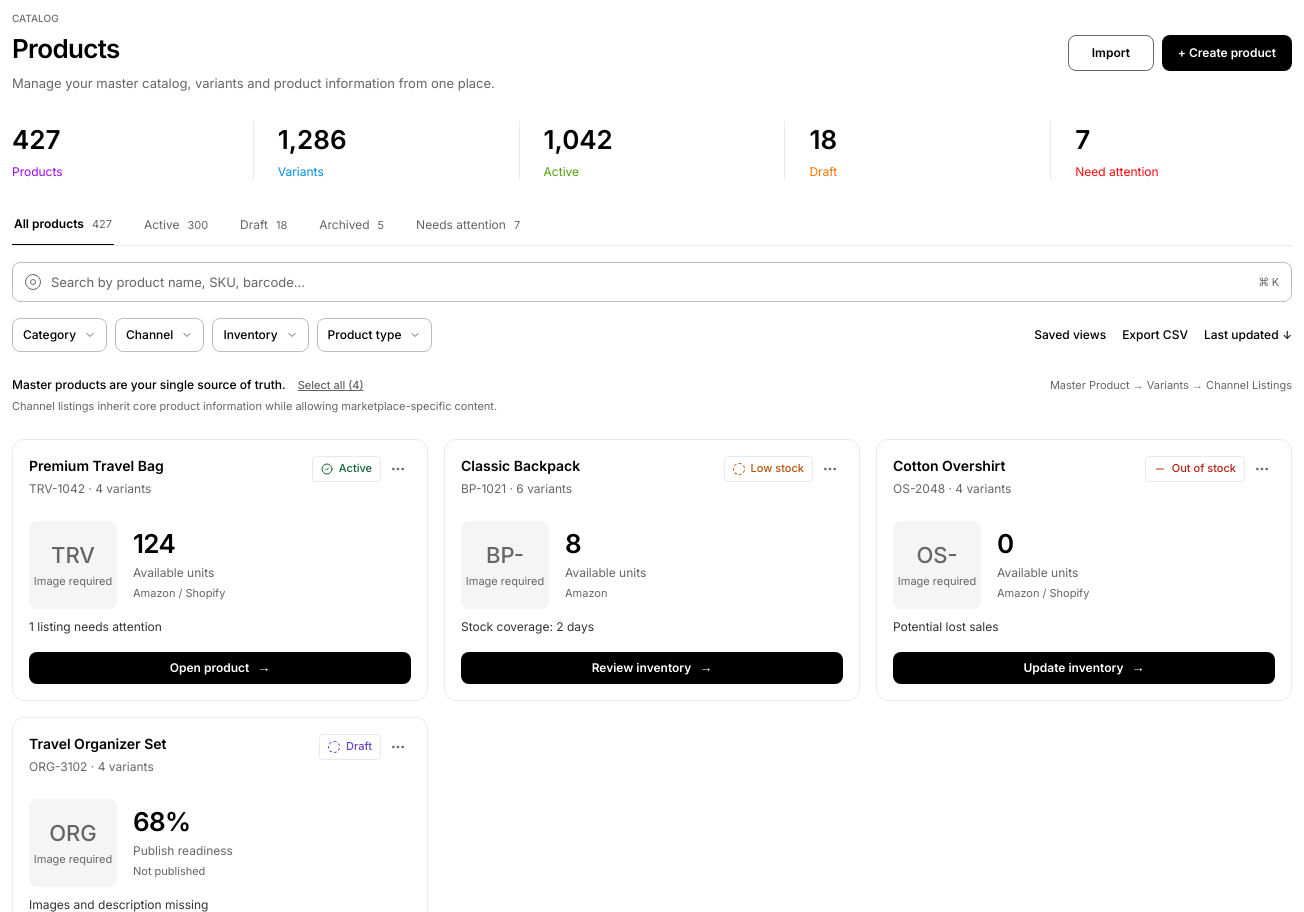
Test: ProductsPage list › searches after a pause and writes q to the URL
Expected: the text "Premium Travel Bag" is shown, [29, 456, 164, 476]
In the search field named "Search products": (650, 282) [51, 272, 1248, 292], type "TRV-10"
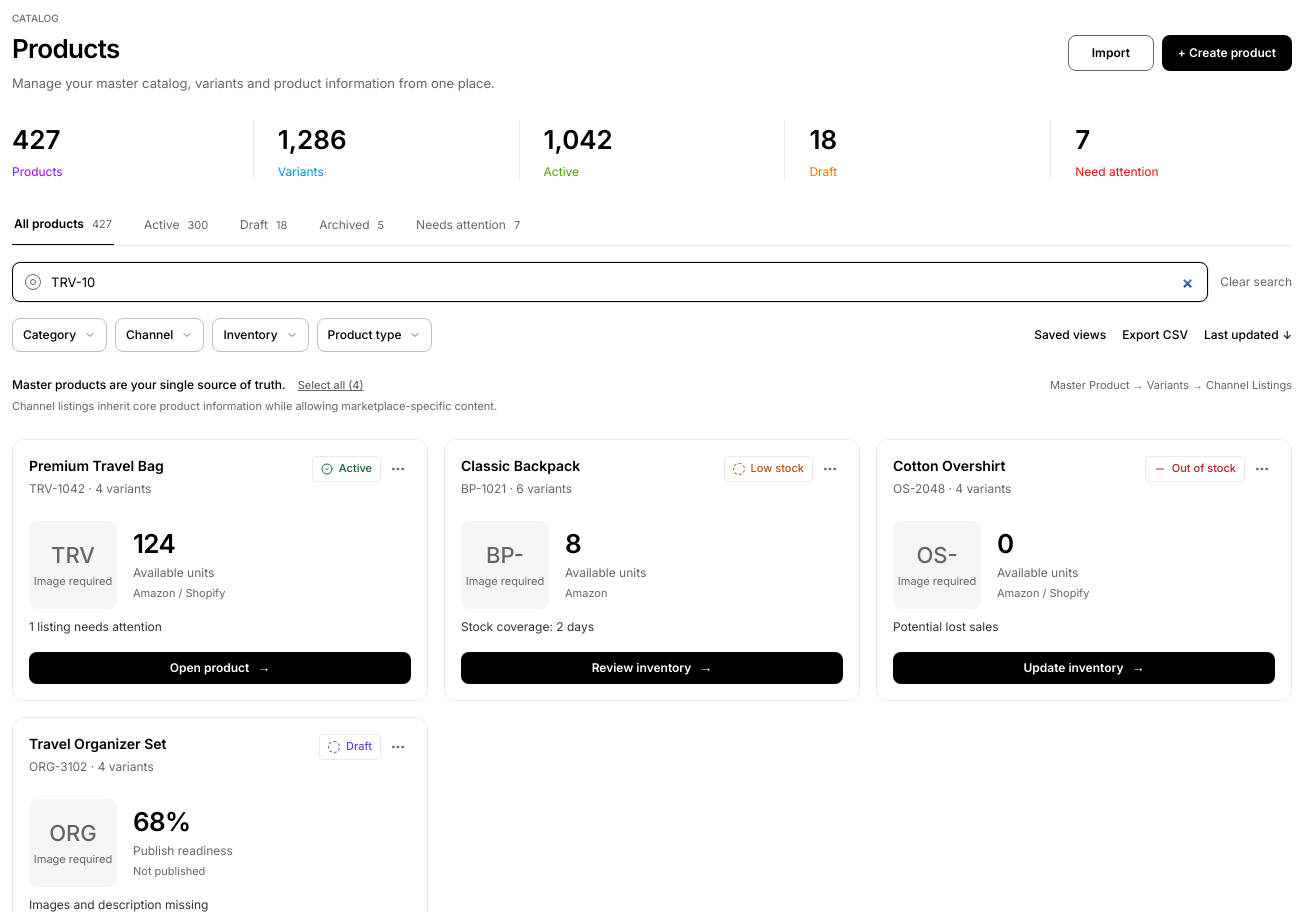
Click the button "Clear search": (1256, 282) [1220, 273, 1292, 291]
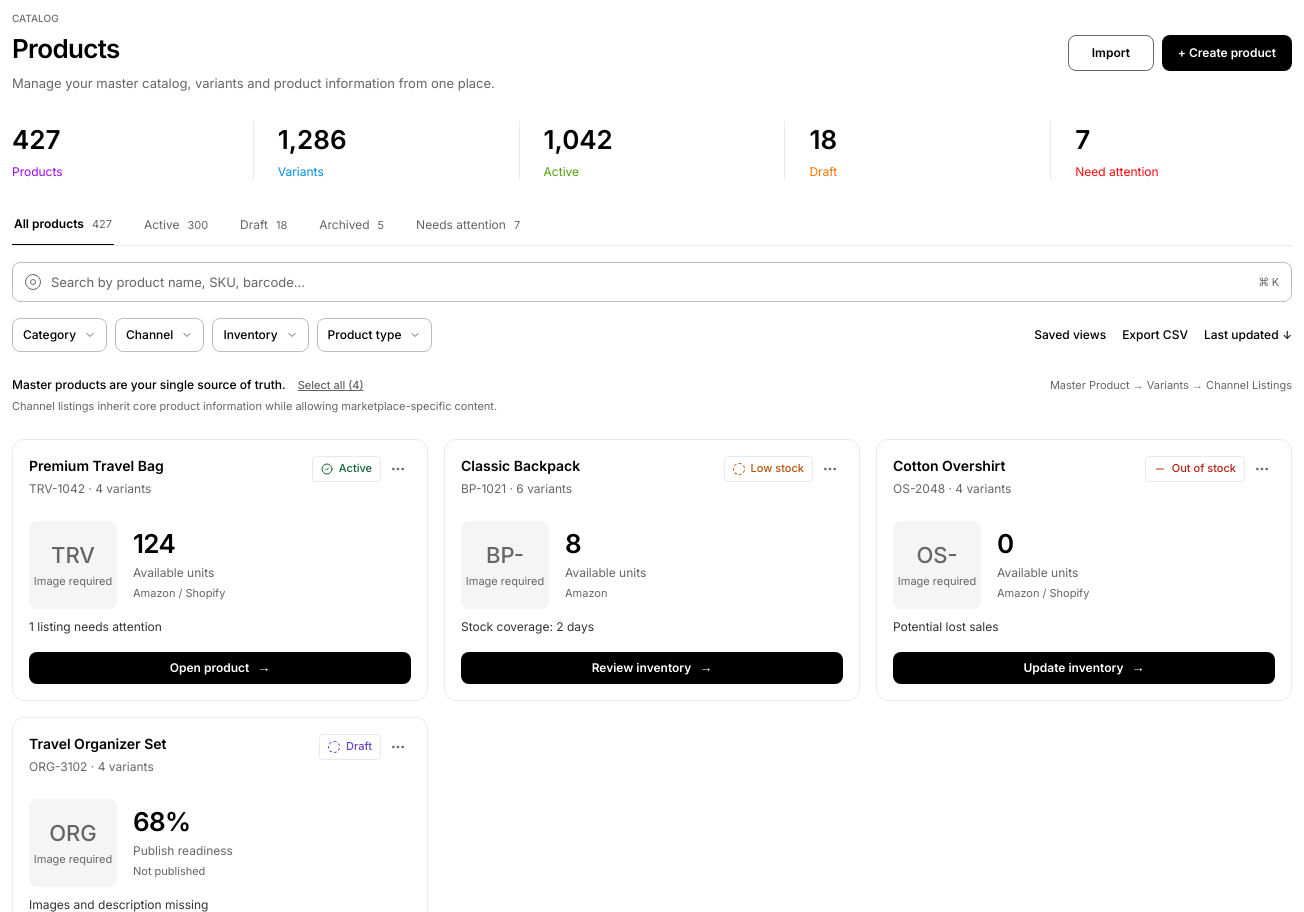
Now the search field named "Search products" is empty, box [51, 272, 1248, 292]
